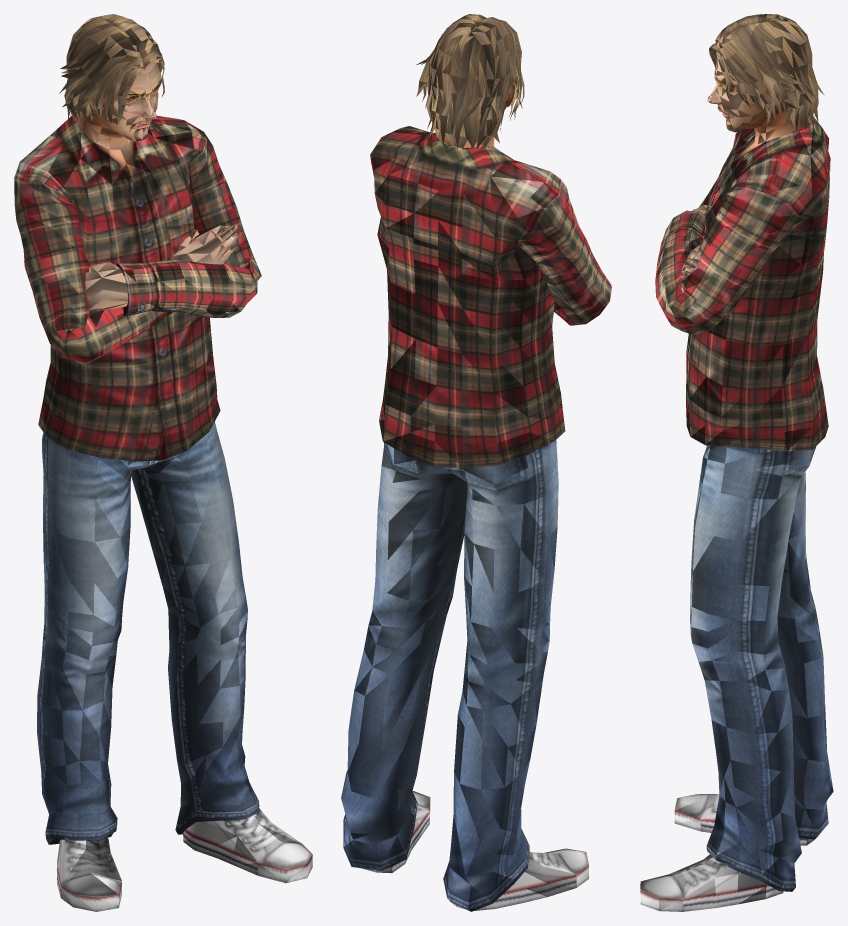
File: people1.glb
3 views of the same model, side by side, from view 1: azimuth 30°, elevation 25°; view 2: azimuth 150°, elevation 25°; view 3: azimuth 270°, elevation 25° (orthographic). The views are drawn at different scales.
Parts seen in each view (by area): view 1: male03; view 2: male03; view 3: male03.
Part boxes in pixels (x1,y1,x2,y2): male03: [14, 14, 312, 911]; male03: [341, 14, 611, 911]; male03: [640, 14, 833, 911].
Bounding box in the file's own units: 0.3027 × 1 × 0.2125.
4 materials, 3 textured.
